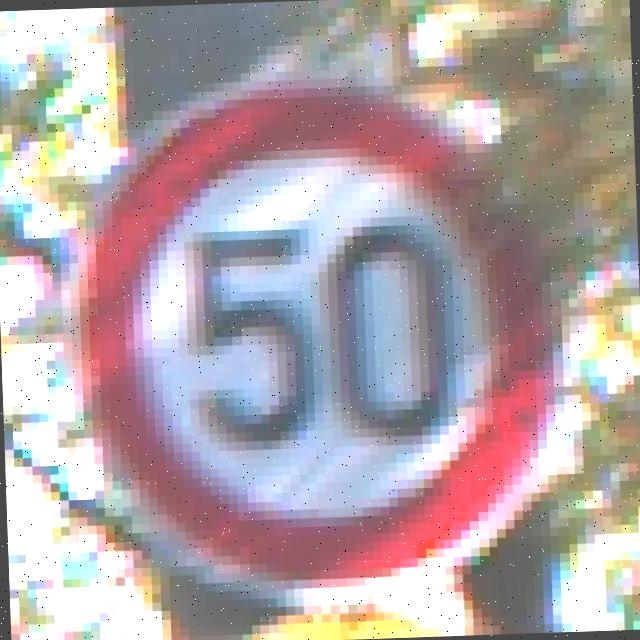Ograniczenie predkosci do 50: (69, 74, 556, 596)
